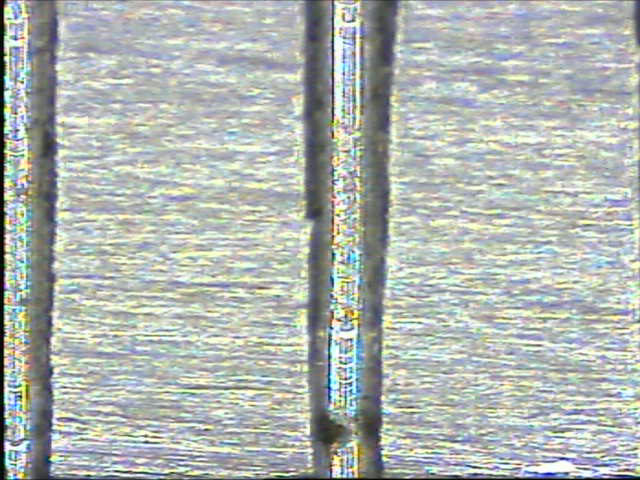line: (300, 1, 400, 477)
